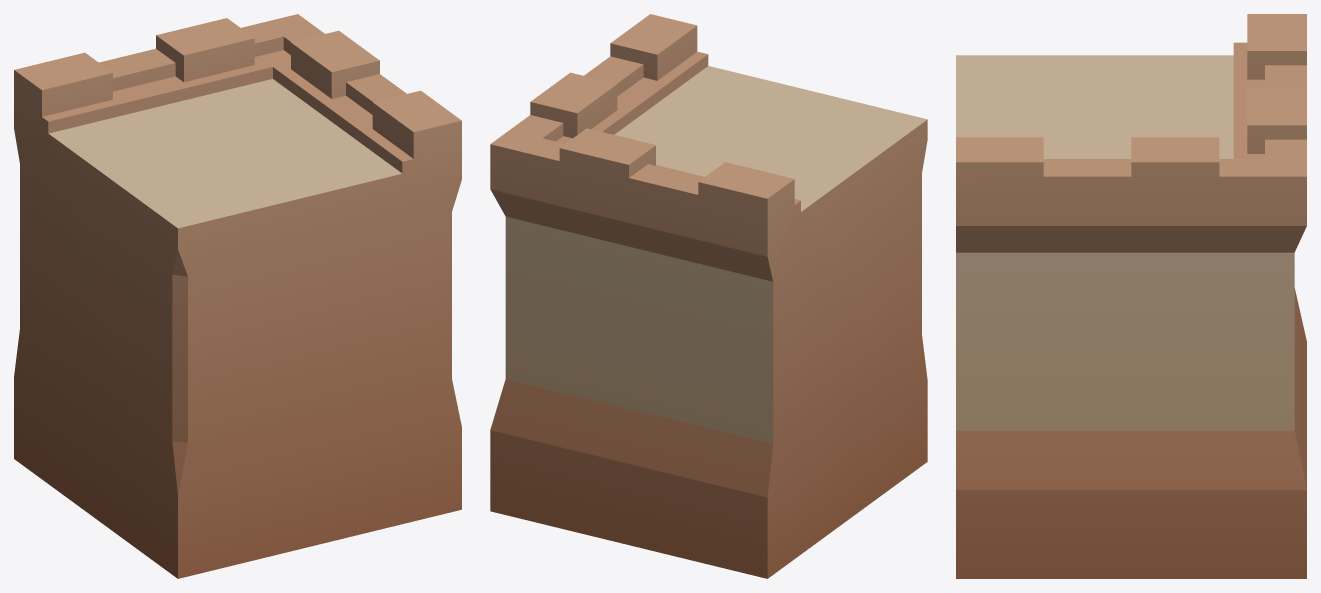
File: wall-corner-half.glb
The picture shows the model from 3 angles, left to right: view 1: azimuth 30°, elevation 25°; view 2: azimuth 150°, elevation 25°; view 3: azimuth 270°, elevation 25°; orthographic projection. The views are drawn at different scales.
Parts seen in each view (by area): view 1: wall-corner-half; view 2: wall-corner-half; view 3: wall-corner-half.
Boxes of the visible parts, x1=… form: wall-corner-half: x1=14, y1=14, x2=461, y2=578; wall-corner-half: x1=490, y1=14, x2=927, y2=578; wall-corner-half: x1=956, y1=14, x2=1306, y2=578.
Bounding box in the file's own units: 1 × 1.31 × 1.
